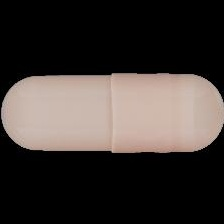68084-709: (0, 0, 224, 224)
